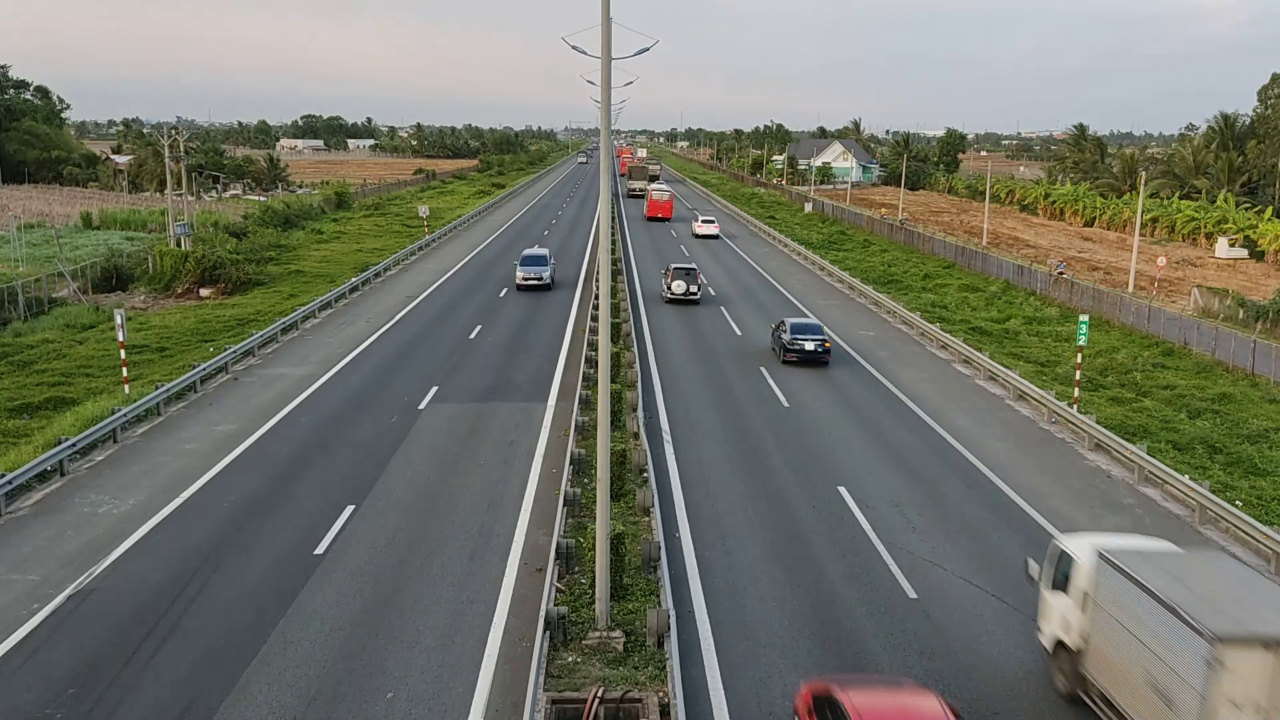car: (769, 315, 833, 365), (514, 246, 557, 290), (660, 262, 703, 303), (690, 214, 720, 238)
truck: (1023, 518, 1274, 714)
